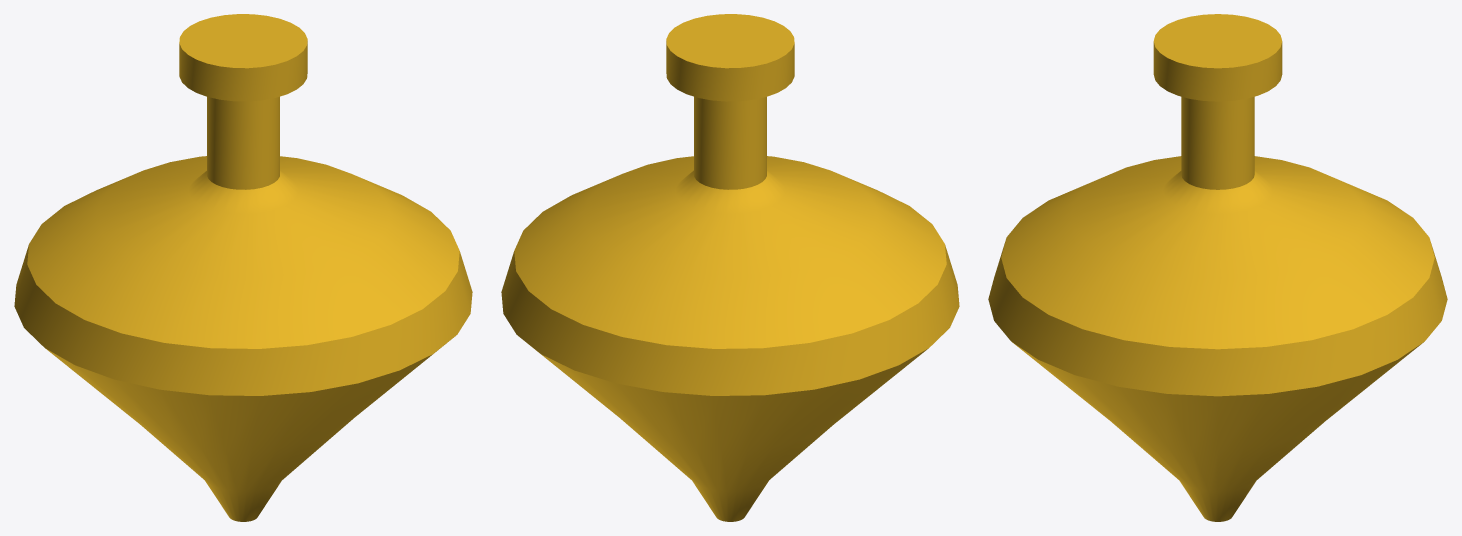
Rendered from spinning_top.glb.
The picture shows the model from 3 angles, left to right: view 1: azimuth 30°, elevation 25°; view 2: azimuth 150°, elevation 25°; view 3: azimuth 270°, elevation 25°; orthographic projection.
Visible parts, largest first — view 1: spinning_top; view 2: spinning_top; view 3: spinning_top.
Boxes of the visible parts, x1,y1,x2,y2 form: spinning_top: [14, 14, 472, 521]; spinning_top: [501, 14, 959, 521]; spinning_top: [988, 14, 1447, 521].
Bounding box in the file's own units: 0.0526 × 0.06 × 0.0526.
